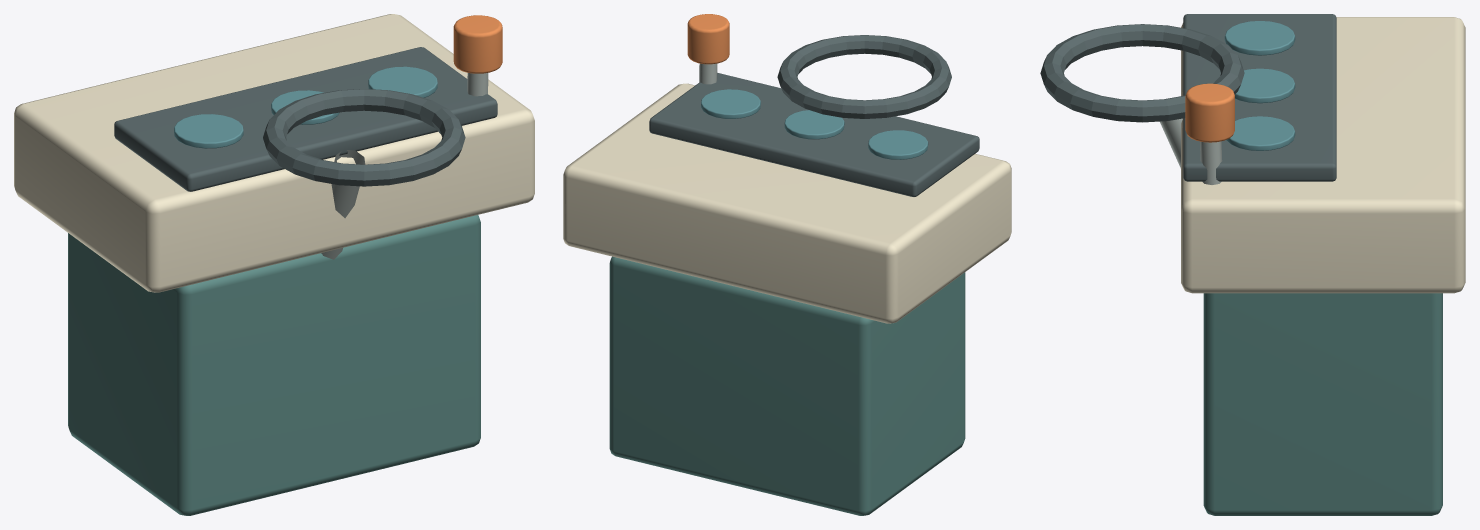
File: NW1_Driver.fbx
3 views of the same model, side by side, from view 1: azimuth 30°, elevation 25°; view 2: azimuth 150°, elevation 25°; view 3: azimuth 270°, elevation 25° (orthographic). The views are drawn at different scales.
Visible parts, largest first — view 1: NW1_Driver_NW1_Teal, NW1_Driver_NW1_Ivory, NW1_Driver_NW1_Frame, NW1_Driver_NW1_Glass, NW1_Driver_NW1_Orange, NW1_Driver_NW1_Steel; view 2: NW1_Driver_NW1_Teal, NW1_Driver_NW1_Ivory, NW1_Driver_NW1_Frame, NW1_Driver_NW1_Glass, NW1_Driver_NW1_Orange; view 3: NW1_Driver_NW1_Ivory, NW1_Driver_NW1_Teal, NW1_Driver_NW1_Frame, NW1_Driver_NW1_Glass, NW1_Driver_NW1_Orange, NW1_Driver_NW1_Steel.
Part boxes in pixels (bbox=[...]): NW1_Driver_NW1_Teal: bbox=[68, 215, 480, 515]; NW1_Driver_NW1_Ivory: bbox=[14, 14, 534, 292]; NW1_Driver_NW1_Frame: bbox=[114, 47, 497, 191]; NW1_Driver_NW1_Glass: bbox=[174, 66, 437, 148]; NW1_Driver_NW1_Orange: bbox=[453, 15, 502, 73]; NW1_Driver_NW1_Steel: bbox=[321, 73, 488, 259]; NW1_Driver_NW1_Teal: bbox=[609, 256, 965, 515]; NW1_Driver_NW1_Ivory: bbox=[563, 83, 1011, 323]; NW1_Driver_NW1_Frame: bbox=[649, 35, 979, 196]; NW1_Driver_NW1_Glass: bbox=[701, 89, 928, 159]; NW1_Driver_NW1_Orange: bbox=[687, 14, 729, 64]; NW1_Driver_NW1_Ivory: bbox=[1181, 17, 1465, 293]; NW1_Driver_NW1_Teal: bbox=[1203, 293, 1442, 515]; NW1_Driver_NW1_Frame: bbox=[1040, 14, 1336, 181]; NW1_Driver_NW1_Glass: bbox=[1224, 21, 1295, 150]; NW1_Driver_NW1_Orange: bbox=[1185, 83, 1234, 142]; NW1_Driver_NW1_Steel: bbox=[1160, 118, 1222, 184].
Bounding box in the file's own units: 1 × 1.04 × 0.941.
